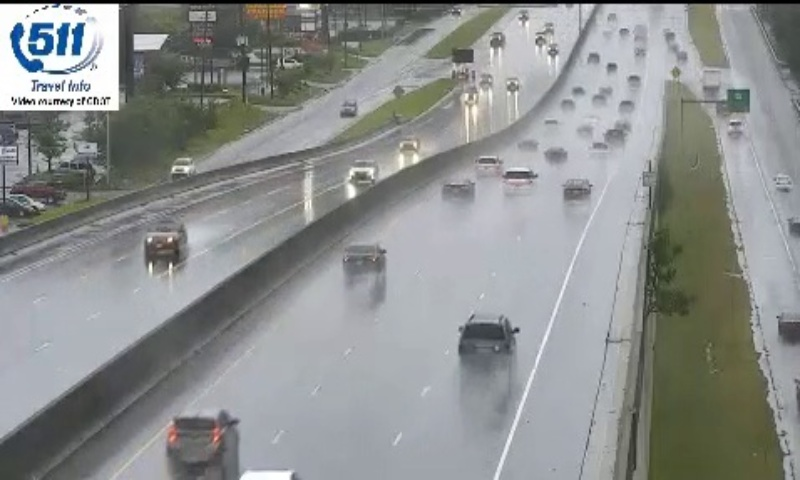car: (167, 411, 241, 462), (458, 314, 513, 361), (341, 241, 386, 274)
